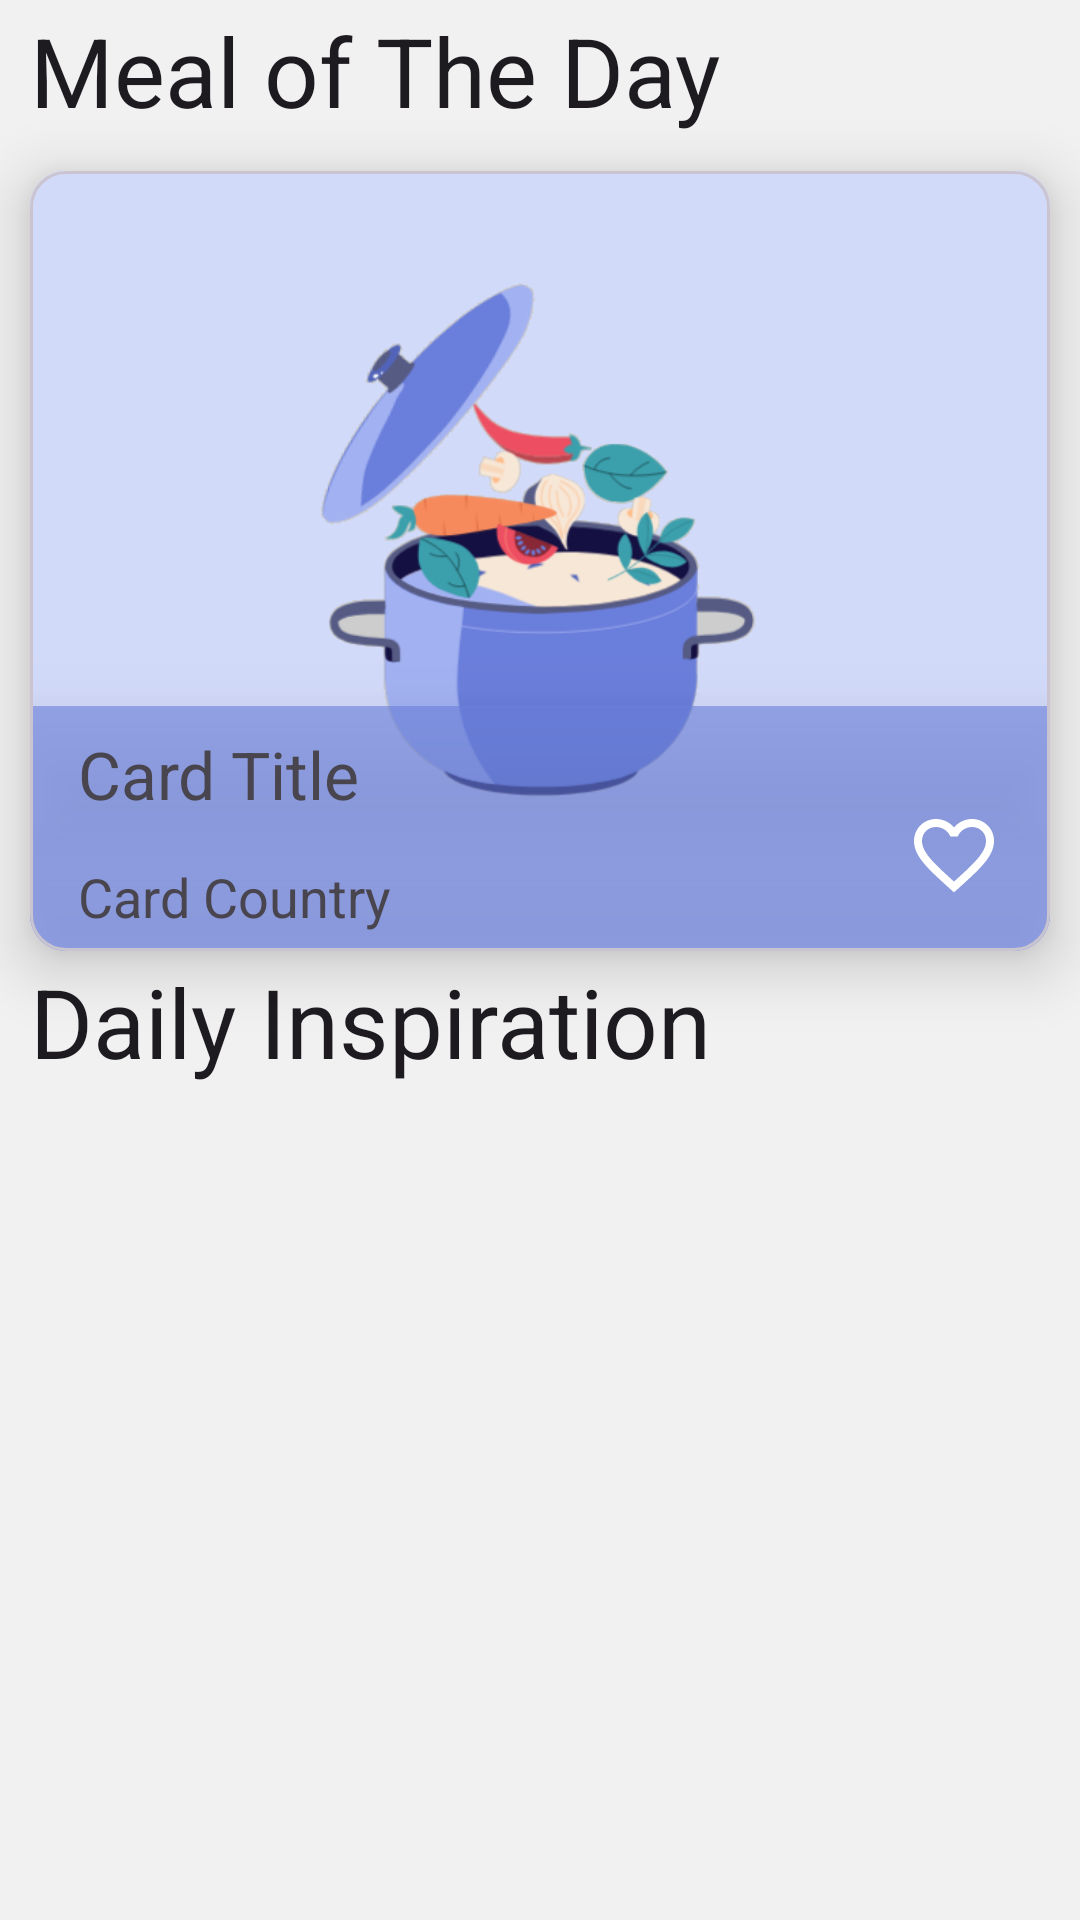

Where icons sit on this 1080×1920 app screen, as (x1, y1, x2, y2):
favorite border: (914, 819, 994, 892)
